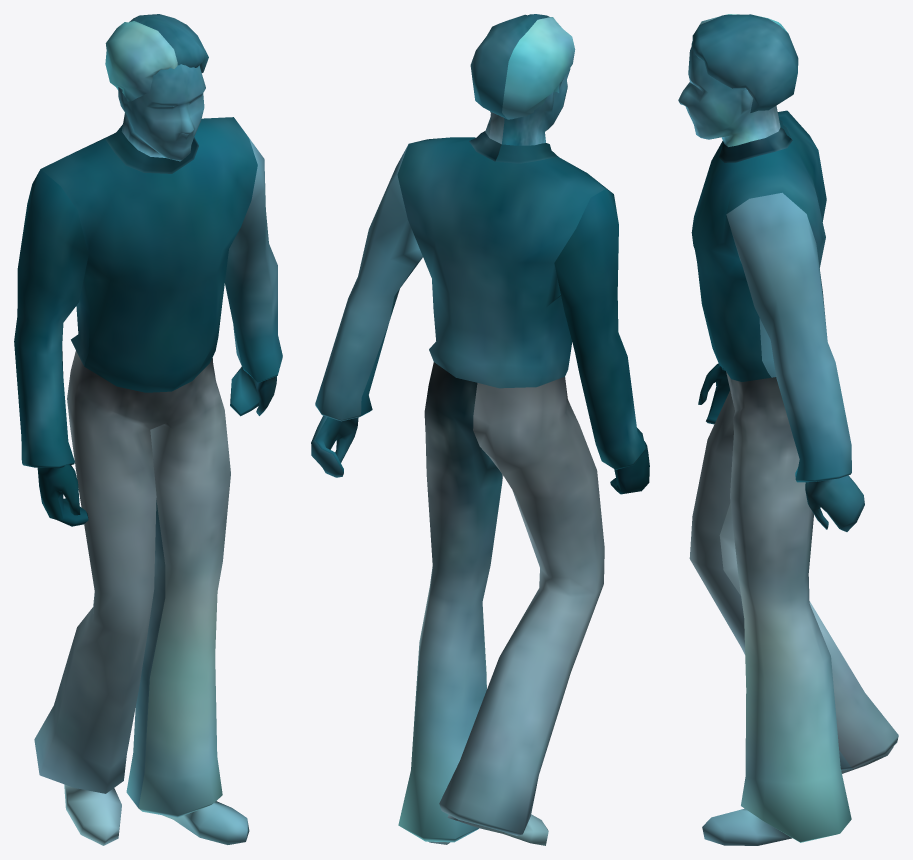
The model's file is simpleMan07.obj.
3 renders of one model, left to right at view 1: azimuth 30°, elevation 25°; view 2: azimuth 150°, elevation 25°; view 3: azimuth 270°, elevation 25°, orthographic. The views are drawn at different scales.
Visible parts, largest first — view 1: uomo; view 2: uomo; view 3: uomo.
Part boxes in pixels (box(x1,y1,x2,y2)): uomo: box(14, 14, 282, 845); uomo: box(311, 14, 649, 845); uomo: box(678, 14, 898, 845).
Size of the model in its own units: 1.81 by 4.97 by 1.25.
Materials: 1 (1 with a texture image).
